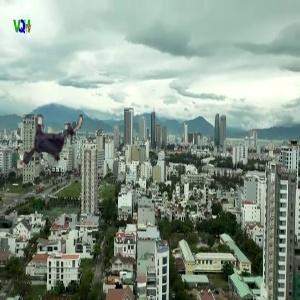drone: (12, 103, 90, 181)
